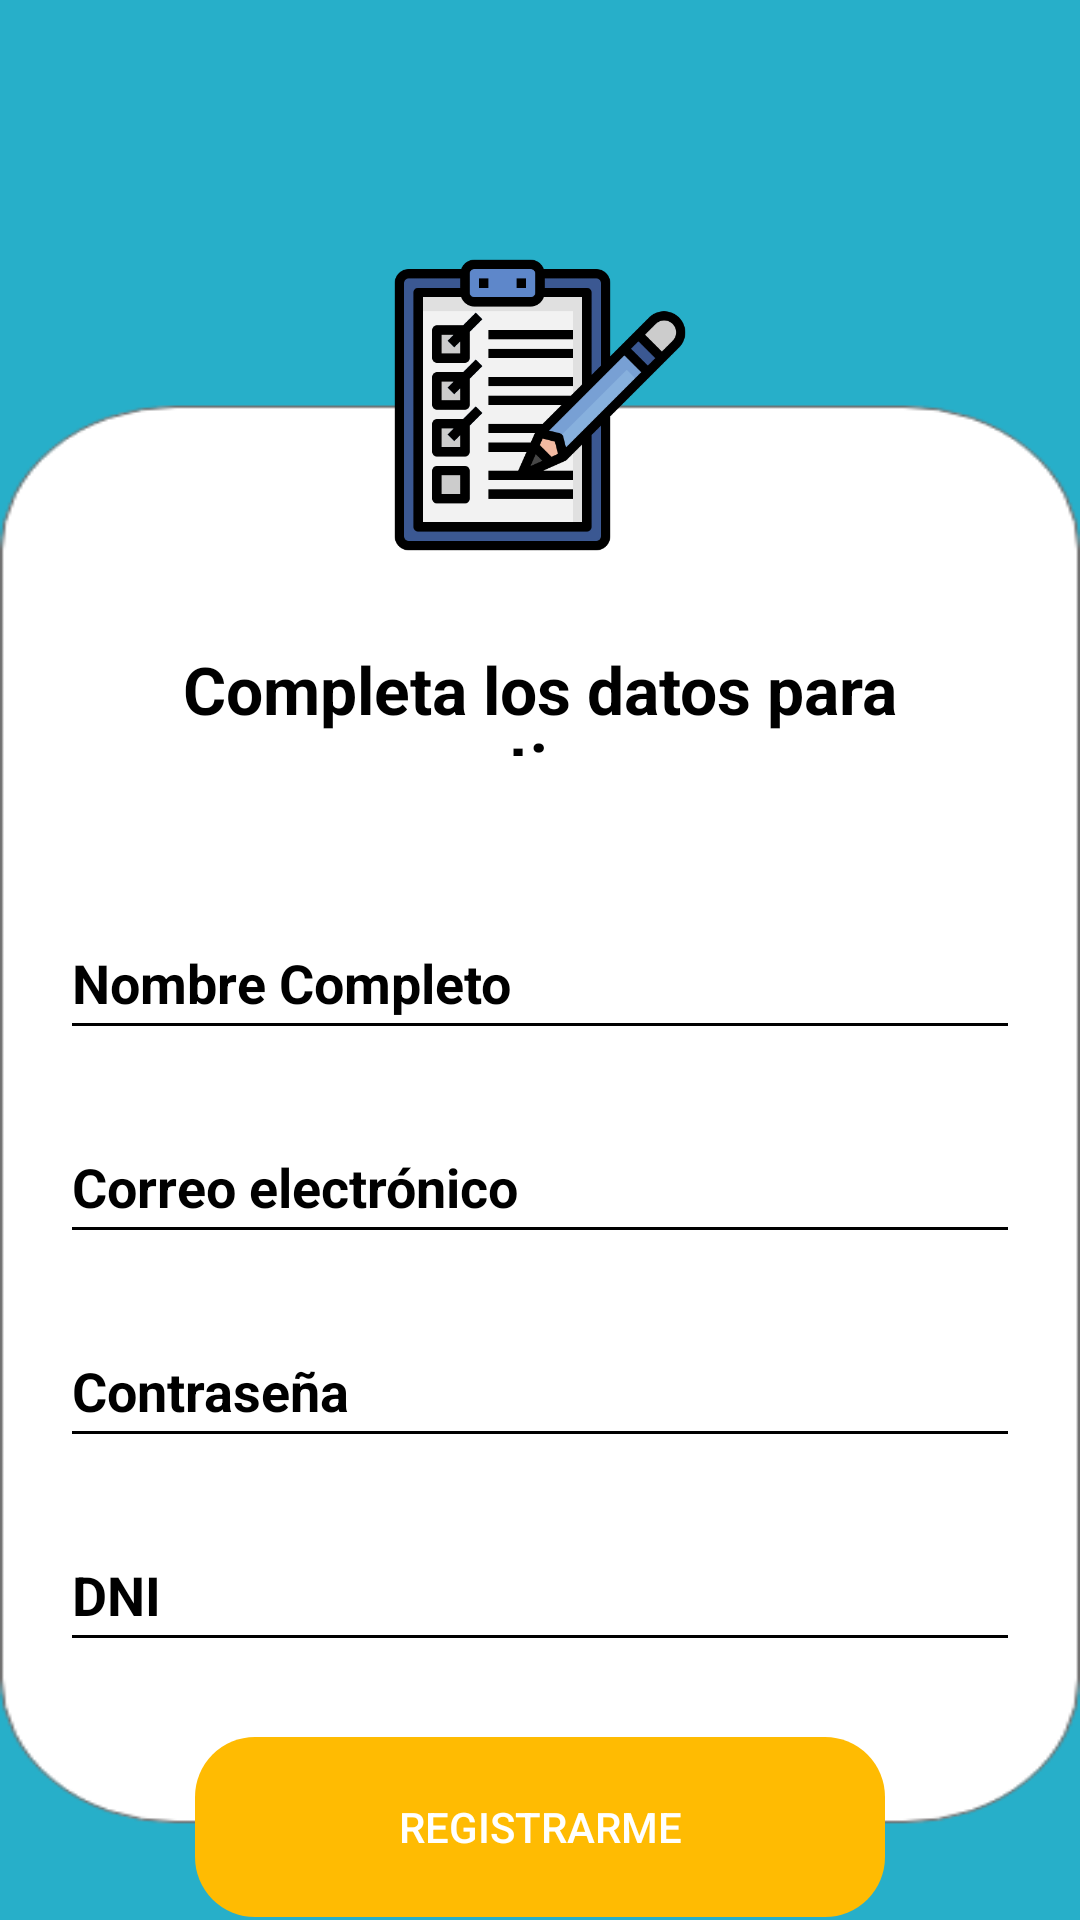

Icons on this 1080px×1920px Android screen, each with the point to tap as [x,y]:
listaveri: [540,405]
